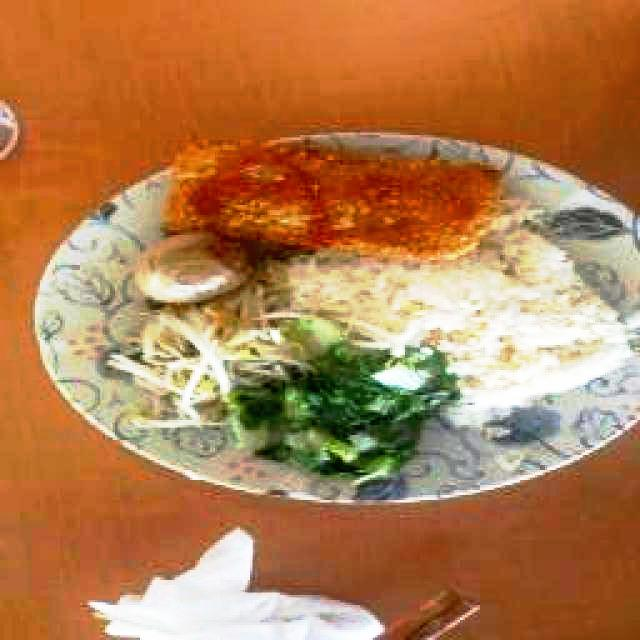Hashbrown: (162, 142, 498, 262)
mung_bean_sprouts: (118, 294, 301, 419)
rice: (271, 228, 629, 408)
water_spinach: (242, 346, 454, 475)
